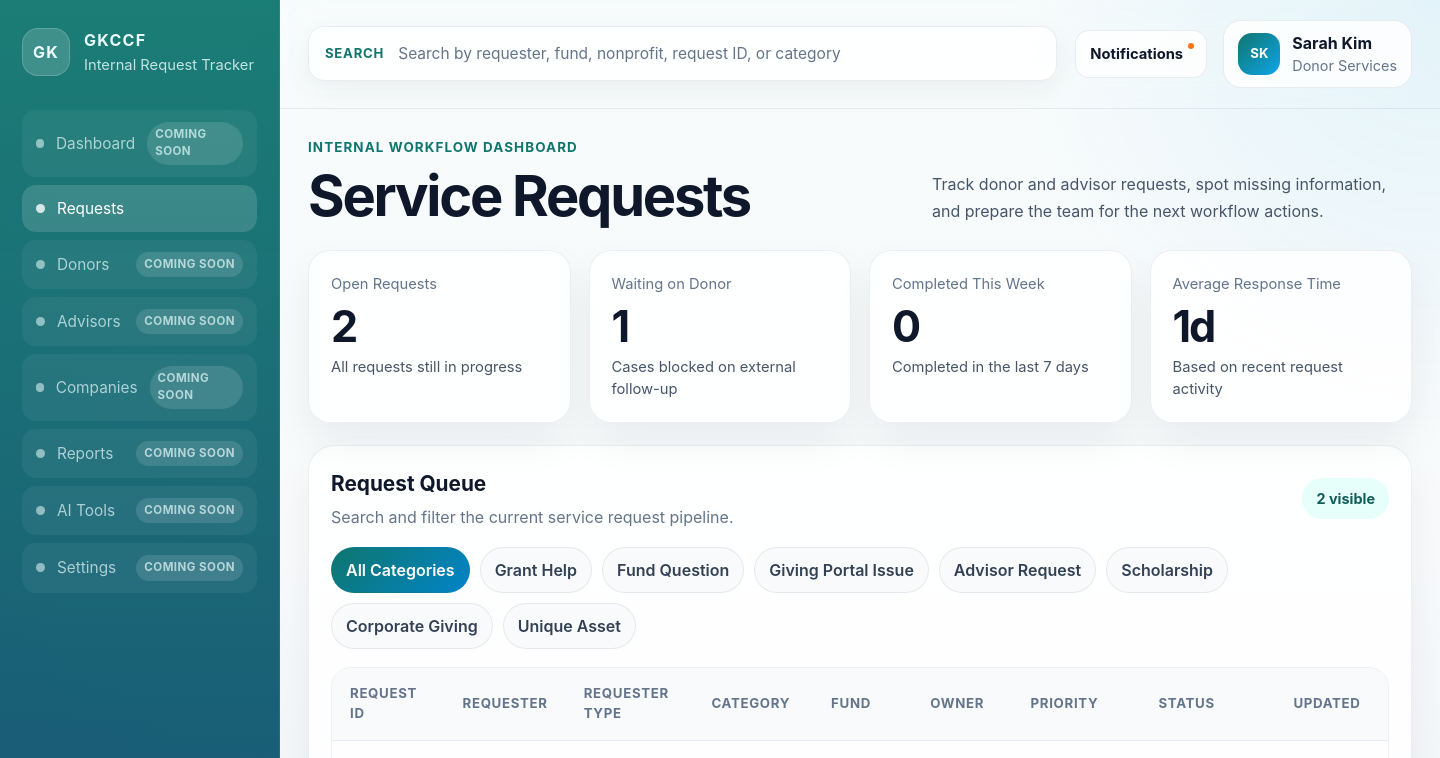
Test: RequestsPage › shows empty state when no rows match
Replace the text in the search field with placeholder "Search by requester" with "No match value" at x=718, y=54, box [396, 41, 1040, 66]
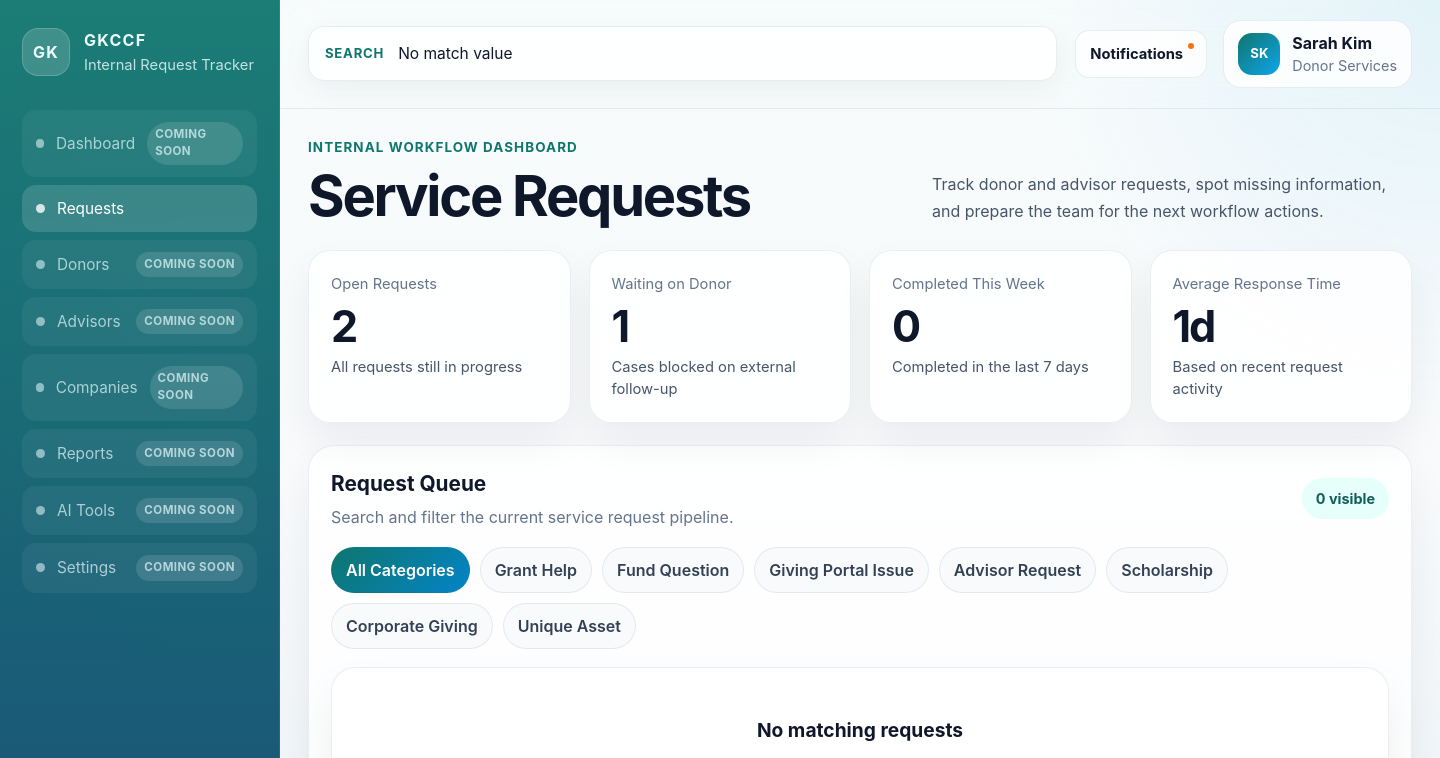
Result: the text "No matching requests" is shown at [757, 718, 963, 742]
